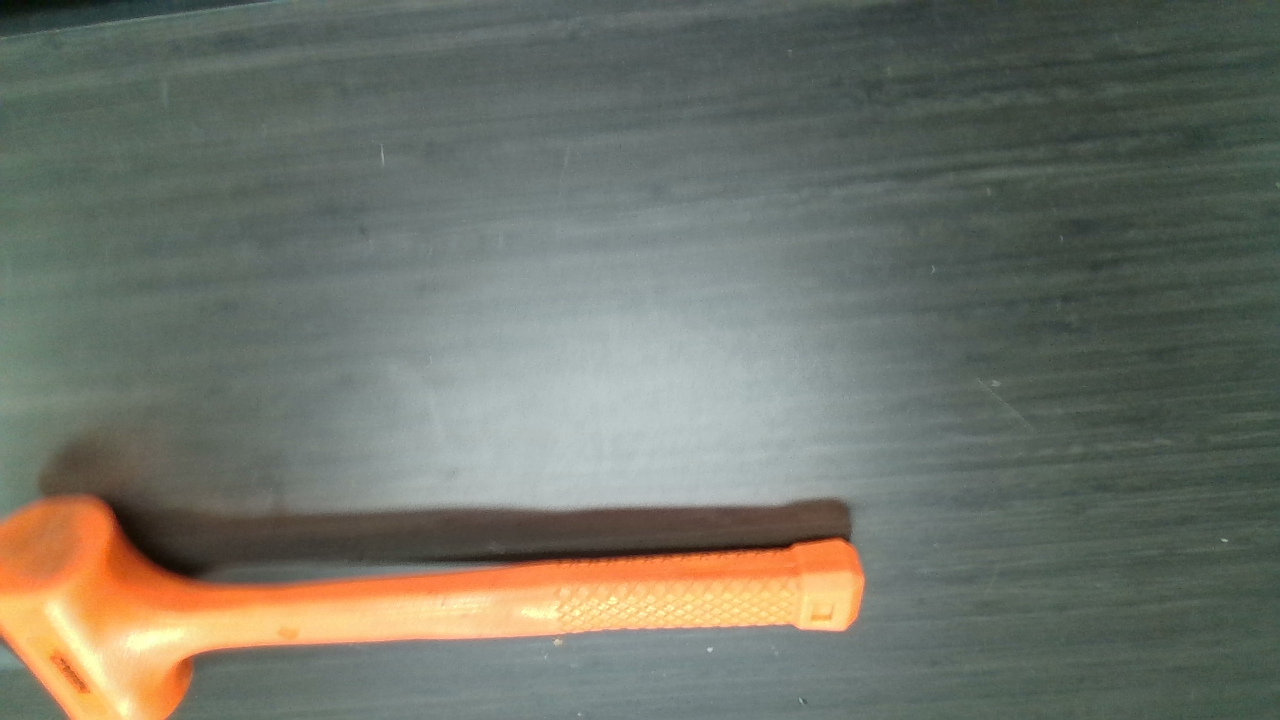Orange Hammer: (5, 495, 865, 717)
